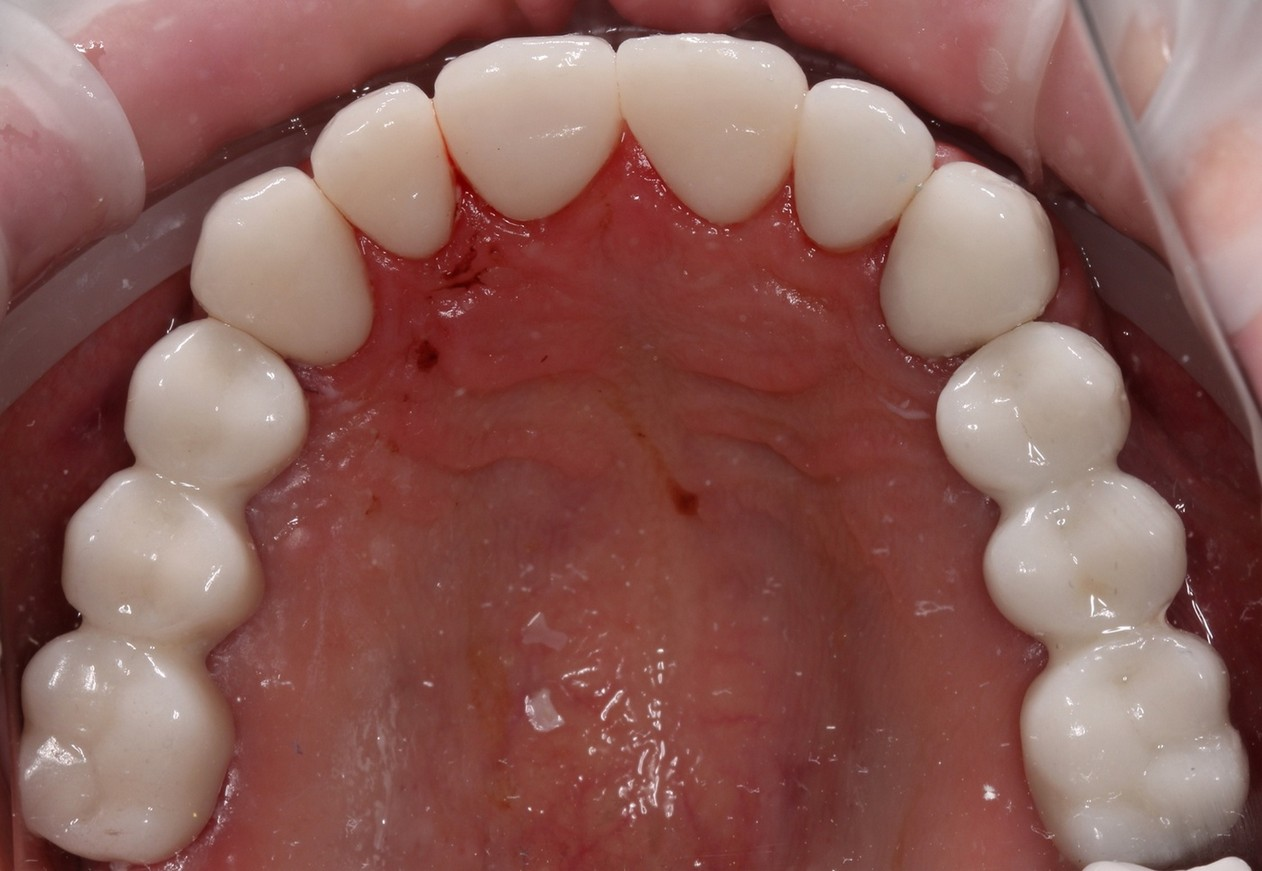UL1BC_healthy: (934, 321, 1117, 493)
UL1M_healthy: (1027, 629, 1242, 863)
UL2BC_healthy: (991, 462, 1180, 631)
ULCI_healthy: (613, 28, 802, 229)
ULC_healthy: (875, 165, 1060, 360)
ULLI_healthy: (801, 77, 932, 253)
UR1BC_healthy: (123, 319, 313, 490)
UR1M_healthy: (17, 630, 247, 862)
UR2BC_healthy: (63, 476, 268, 646)
URCI_healthy: (430, 15, 615, 233)
URC_healthy: (187, 164, 382, 371)
URLI_healthy: (310, 81, 455, 265)
